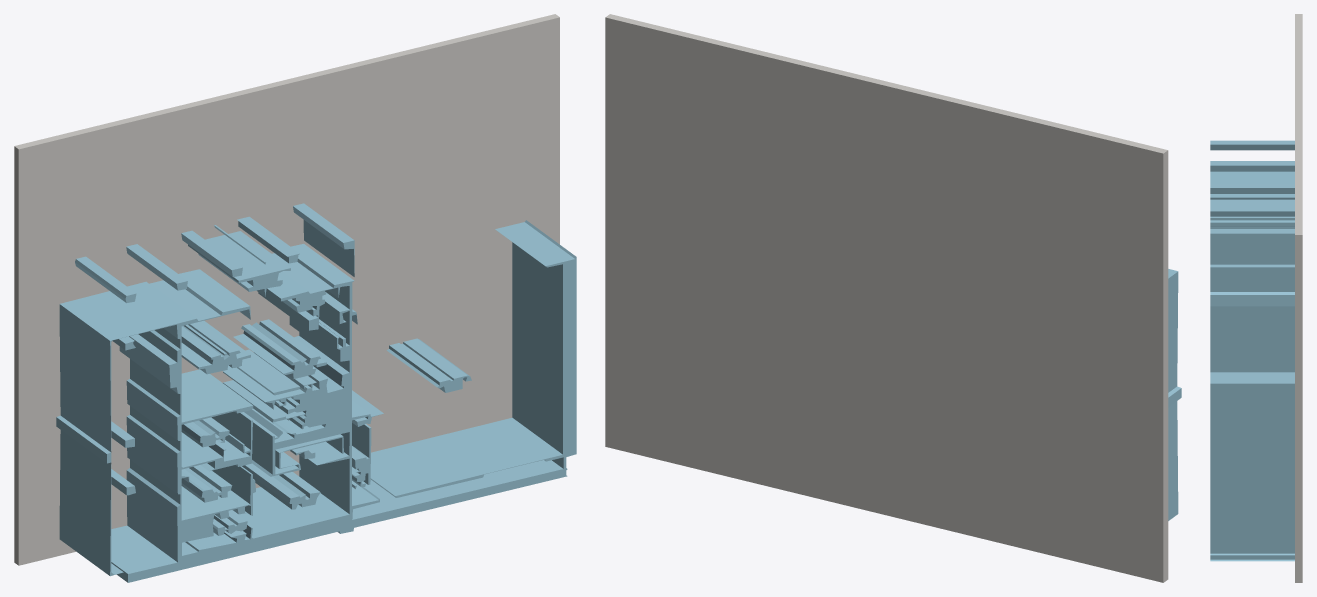
3 renders of one model, left to right at view 1: azimuth 30°, elevation 25°; view 2: azimuth 150°, elevation 25°; view 3: azimuth 270°, elevation 25°, orthographic. The views are drawn at different scales.
Visible parts, largest first — view 1: world; view 2: world; view 3: world.
Part boxes in pixels (bbox=[...]): world: bbox=[14, 14, 576, 582]; world: bbox=[605, 14, 1181, 582]; world: bbox=[1210, 14, 1302, 582].
Size of the model in its own units: 10.23 by 7.52 by 1.81.
